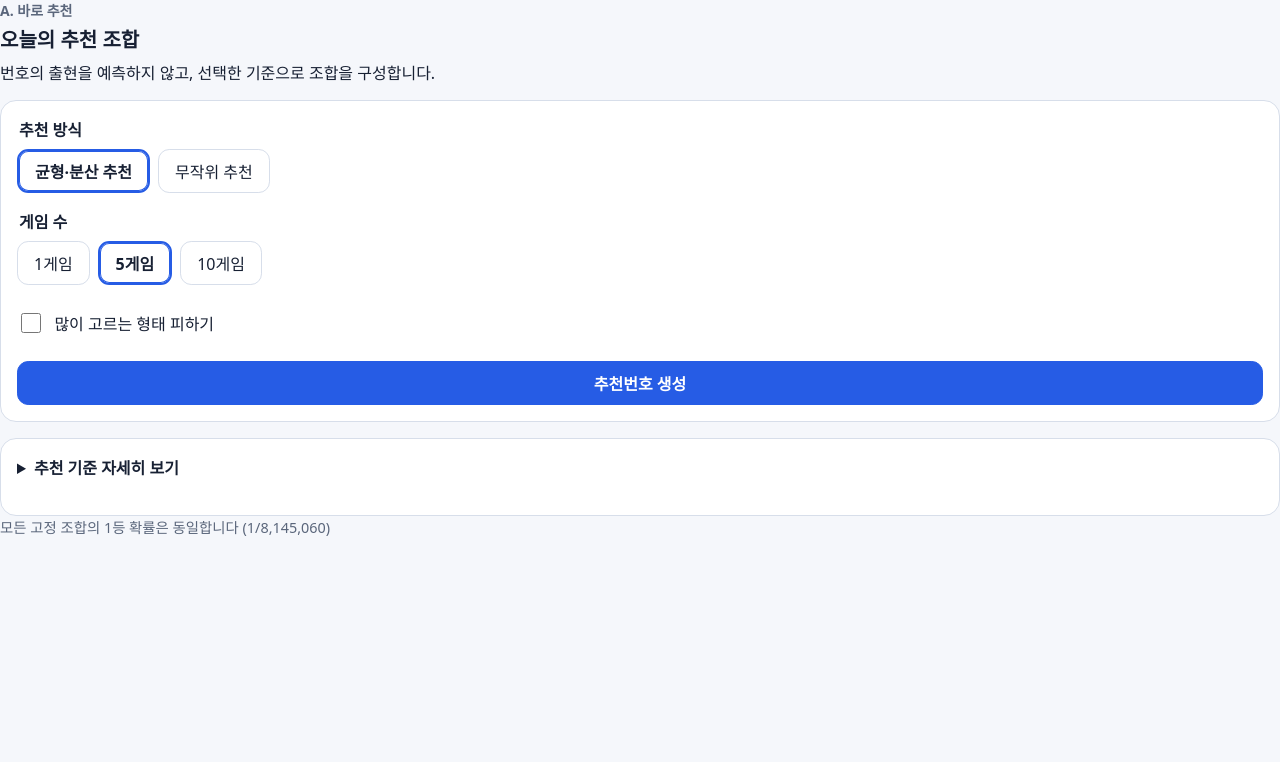
Test: surfaces result share rejection without clipboard fallback or result mutation
The width and height of the screenshot is (1280, 762).
Click the button "추천번호 생성" at point(640, 383), box [17,361,1263,405]
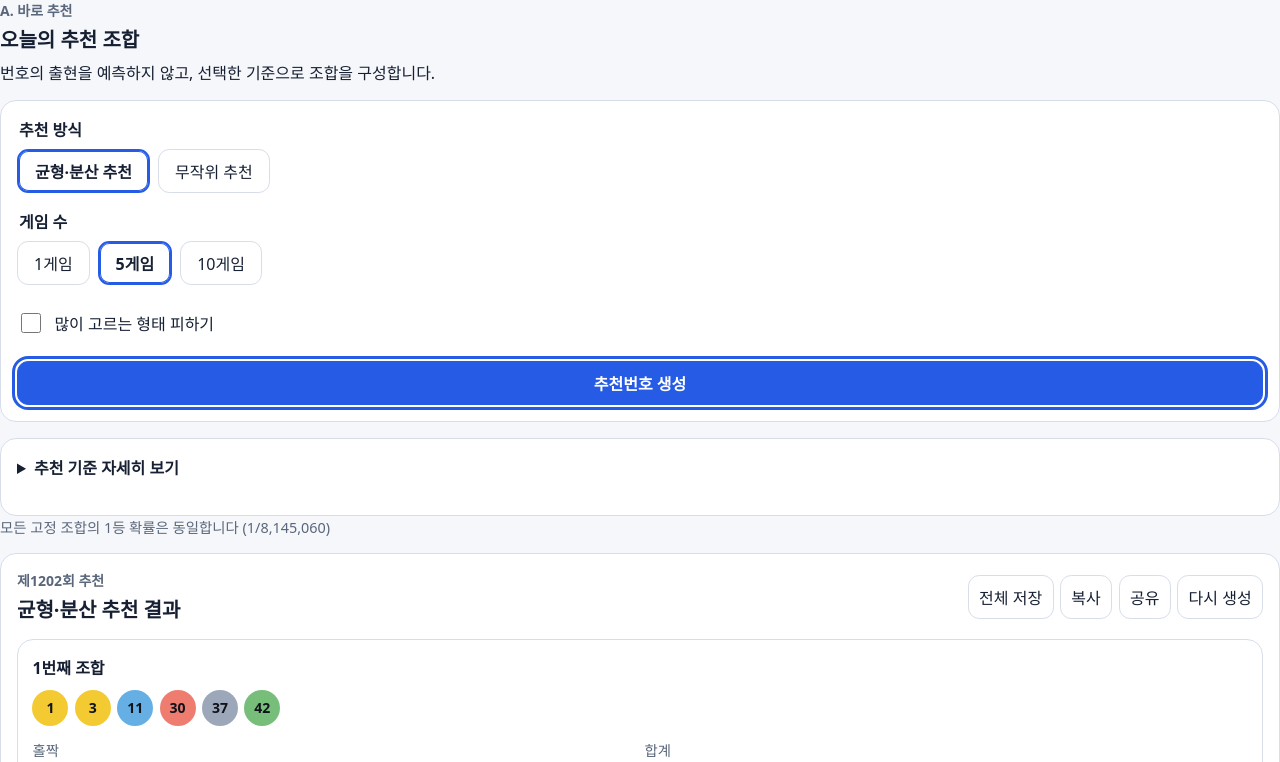
Click the button "공유" at point(1145, 597), box [1118,575,1171,619]
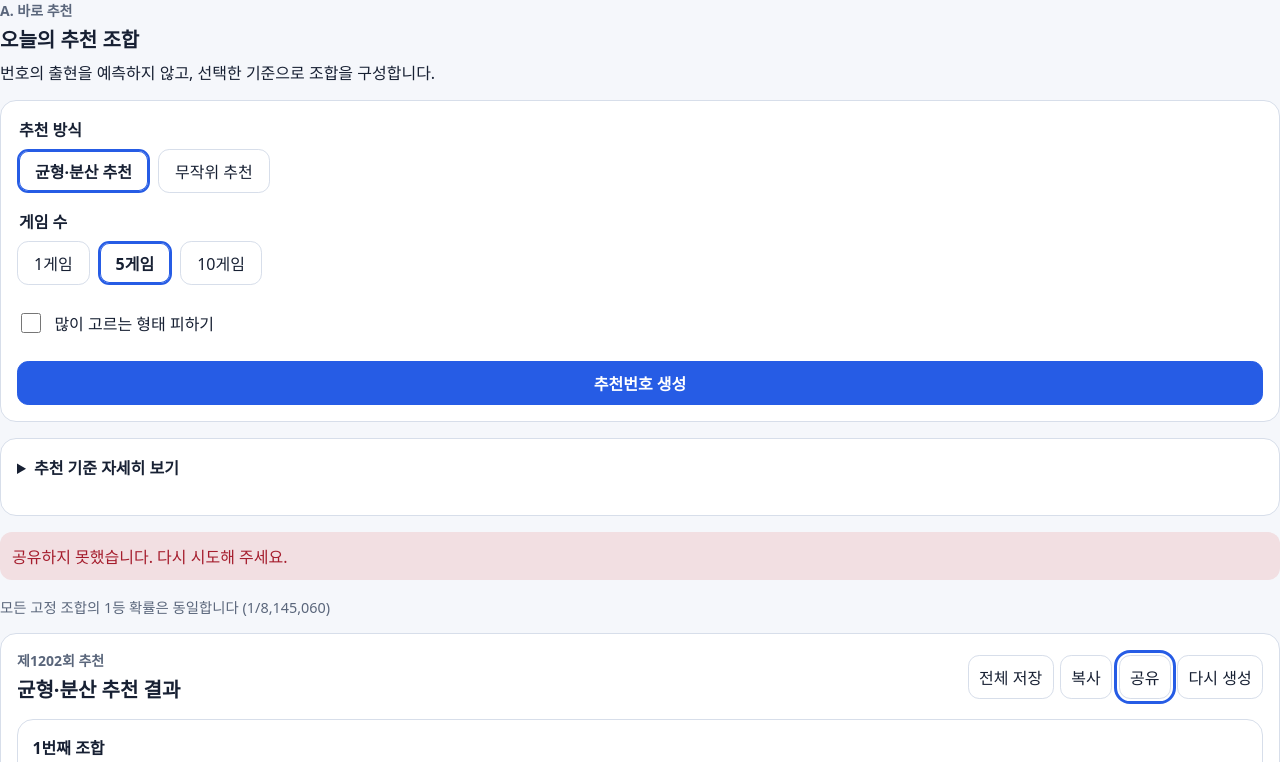
Result: the message shows "공유하지 못했습니다." at [12,546,288,568]
